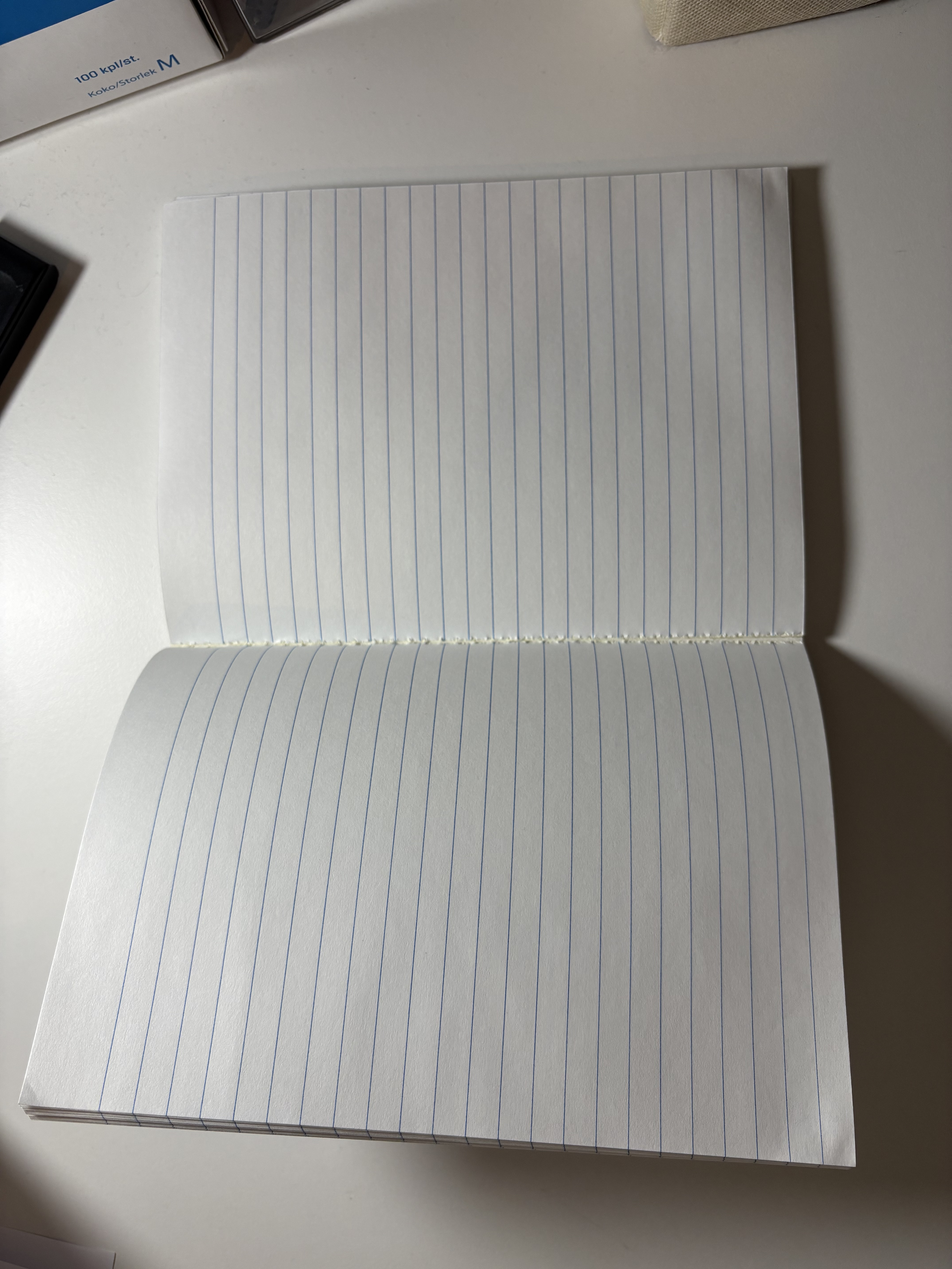paper: (20, 166, 865, 1170)
